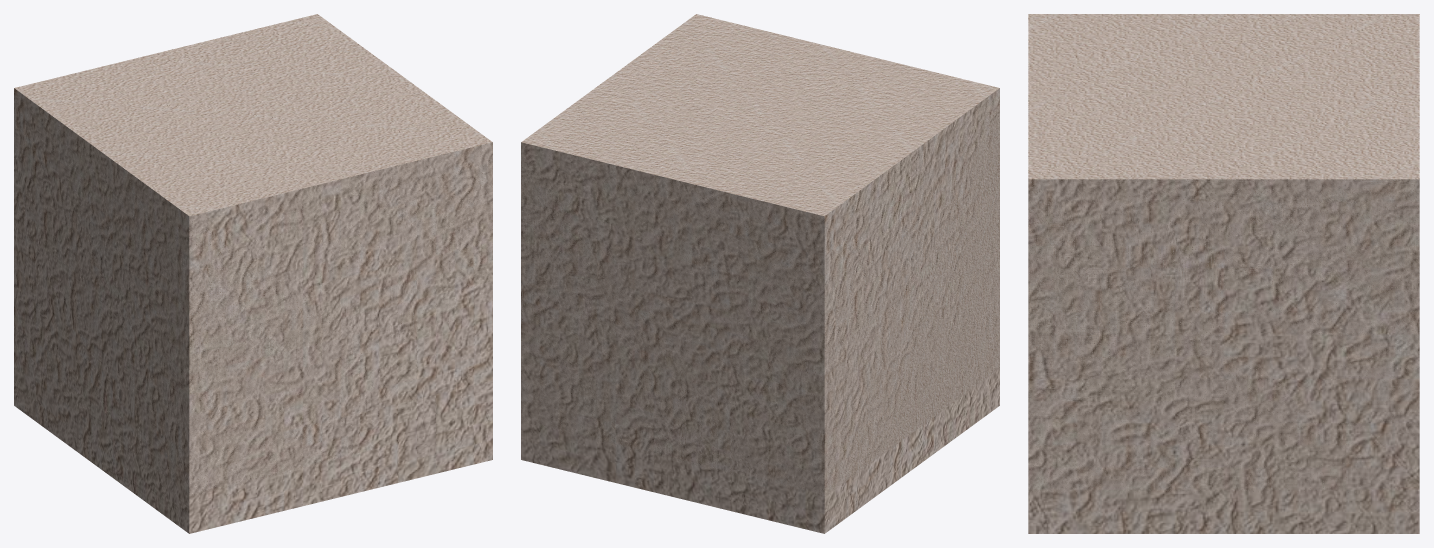
File: playerlobbybox.fbx
3 renders of one model, left to right at view 1: azimuth 30°, elevation 25°; view 2: azimuth 150°, elevation 25°; view 3: azimuth 270°, elevation 25°, orthographic. The views are drawn at different scales.
Visible parts, largest first — view 1: Cube; view 2: Cube; view 3: Cube.
Boxes of the visible parts, <box> form: Cube: <box>14,14,492,533</box>; Cube: <box>521,14,999,533</box>; Cube: <box>1028,14,1419,533</box>.
Size of the model in its own units: 600 by 600 by 600.
2 materials, 2 textured.
